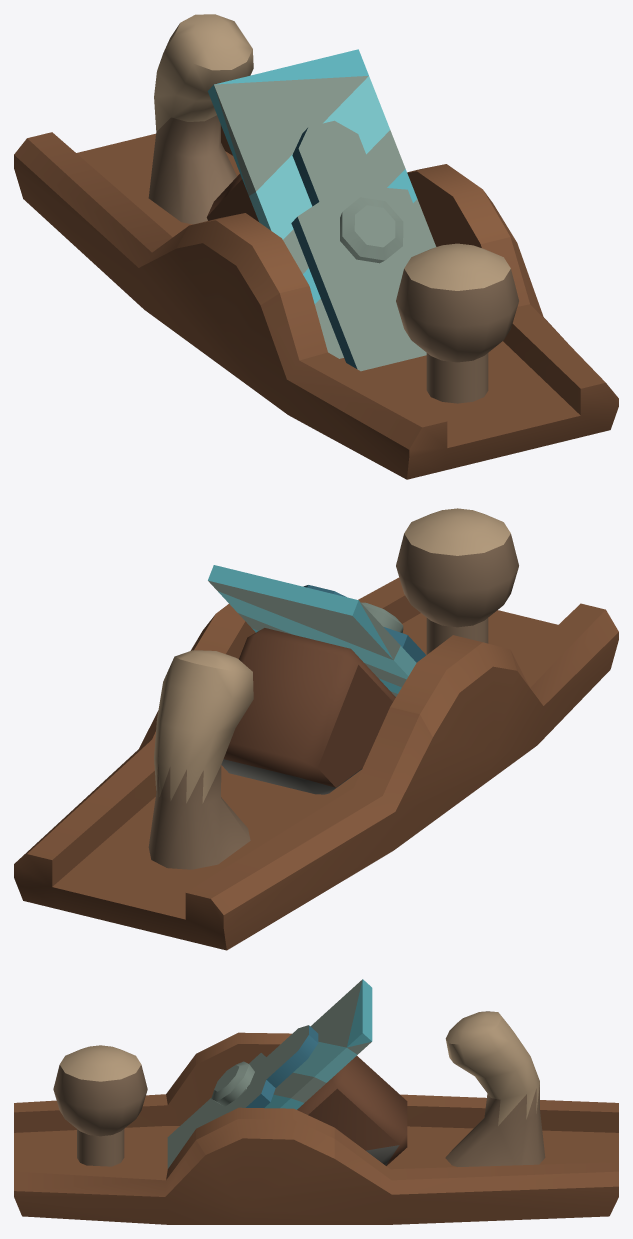
The model's file is itch_kaykit_rpg_tools_handplane.glb.
3 renders of one model, top to bottom at view 1: azimuth 30°, elevation 25°; view 2: azimuth 150°, elevation 25°; view 3: azimuth 270°, elevation 25°, orthographic. The views are drawn at different scales.
Visible parts, largest first — view 1: handplane; view 2: handplane; view 3: handplane.
Boxes of the visible parts, bbox=[...] form: handplane: bbox=[14, 14, 618, 479]; handplane: bbox=[14, 508, 618, 950]; handplane: bbox=[14, 979, 618, 1224].
Bounding box in the file's own units: 0.4425 × 0.3812 × 1.18.
